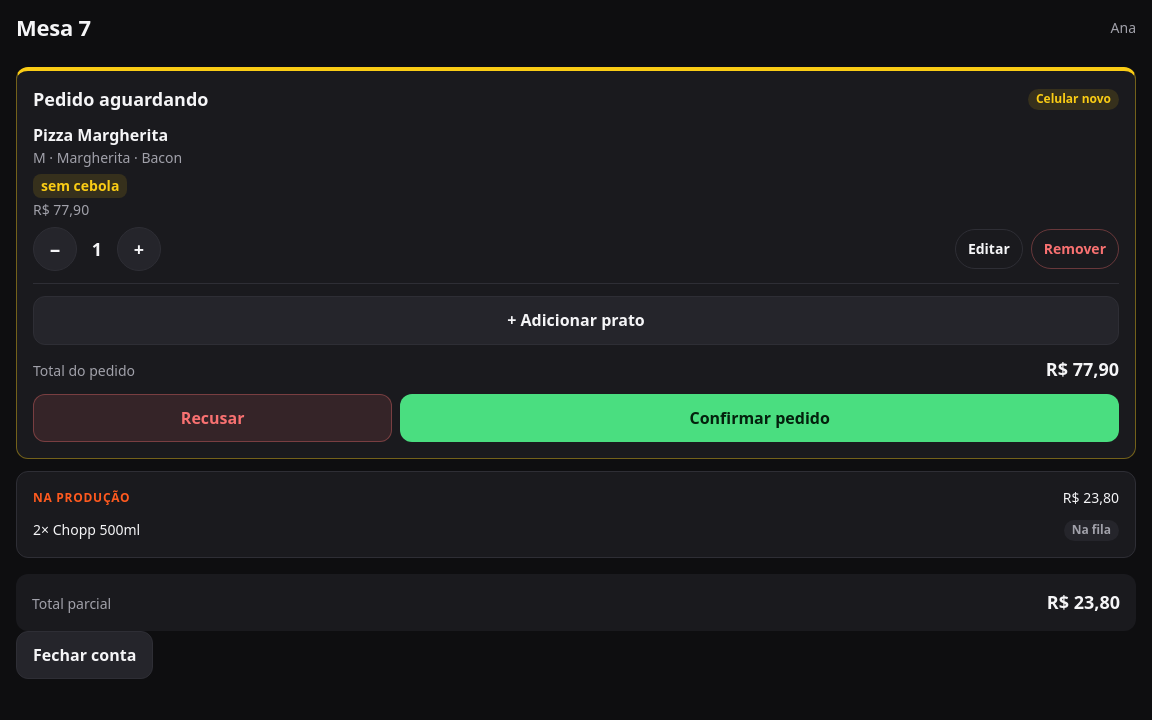
Test case: Tela da mesa › Confirmar pedido chama a API e a rodada vai para confirmadas
Expected: the heading "Mesa 7" is shown, [16, 12, 91, 43]
Click the button "Confirmar pedido": {"x": 760, "y": 418} [400, 394, 1119, 442]
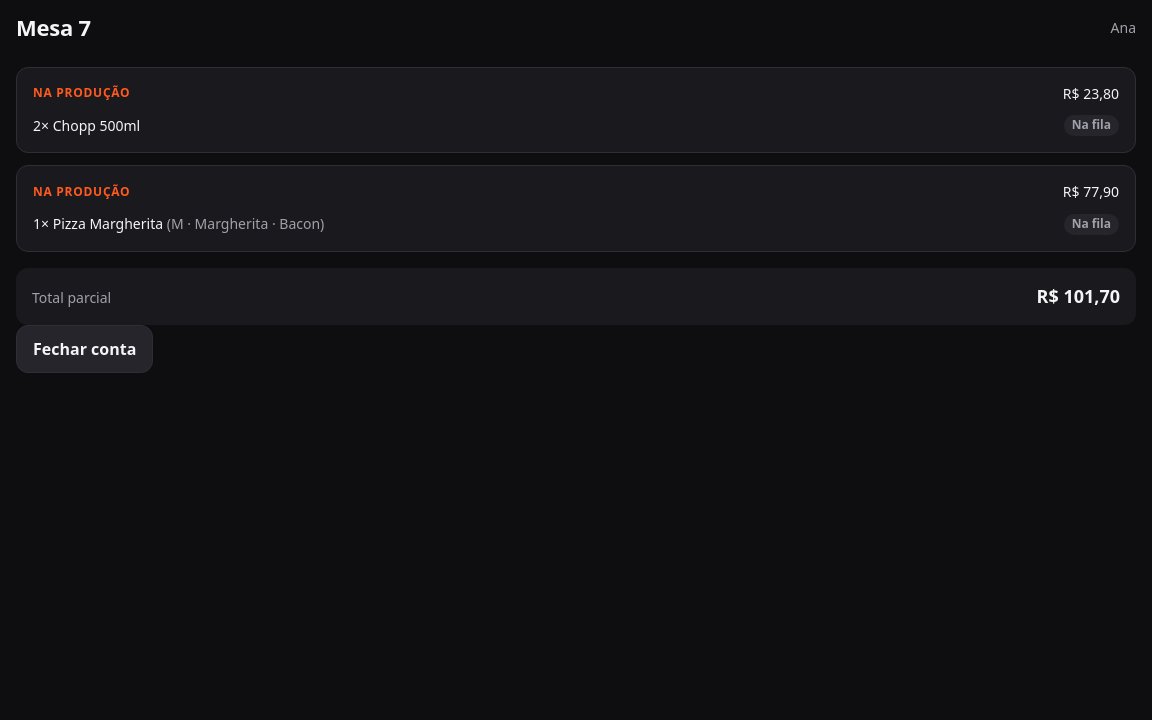
Now the heading "Pedido aguardando" is gone
